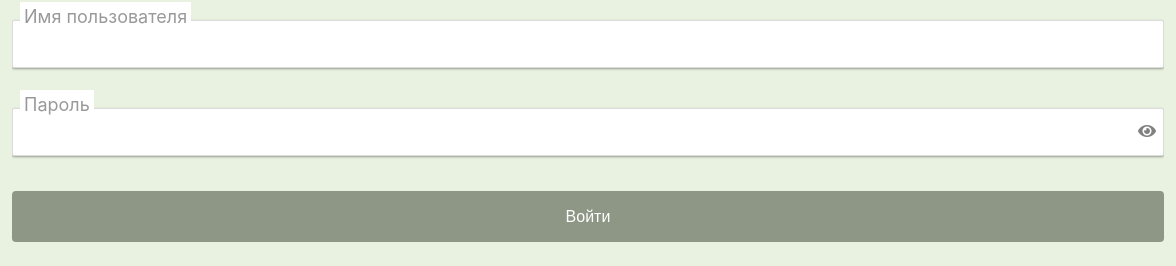
Test case: LoginFormContainer › changes button state based on state of other elements
Expected: the submit button is disabled, x1=12 y1=191 x2=1164 y2=242
Type "test" into the field labelled "Имя пользователя" at (588, 44), box x1=12 y1=20 x2=1164 y2=68
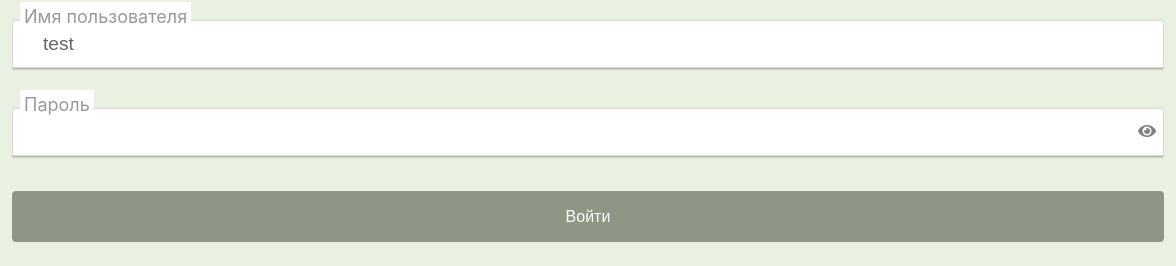
Type "12345678" into the password field labelled "Пароль" at (588, 132), box x1=12 y1=108 x2=1164 y2=156
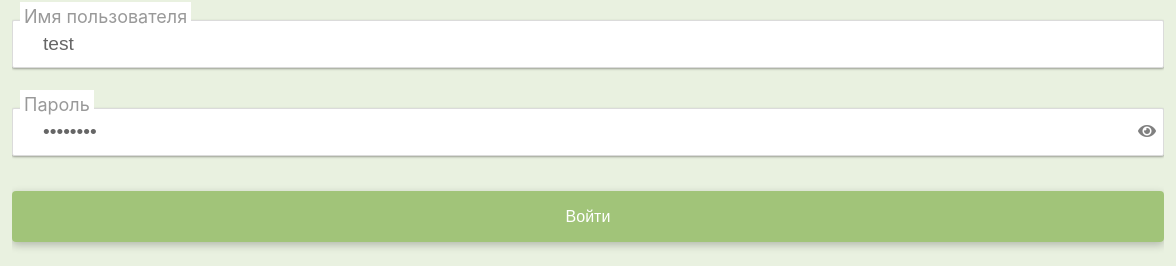
Result: the submit button is enabled at x1=12 y1=191 x2=1164 y2=242
